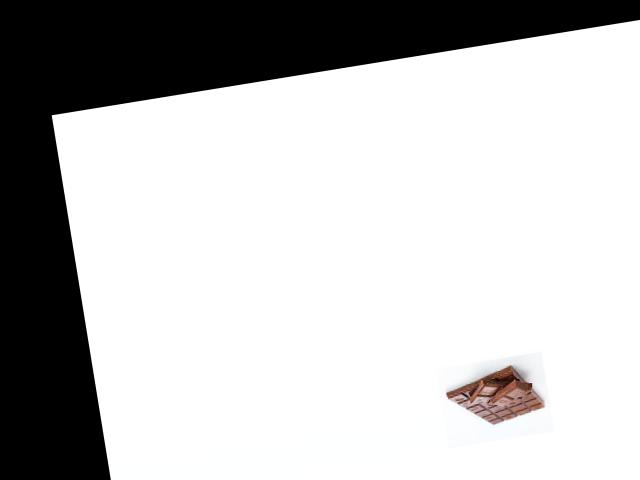chocolate: (441, 357, 548, 436)
